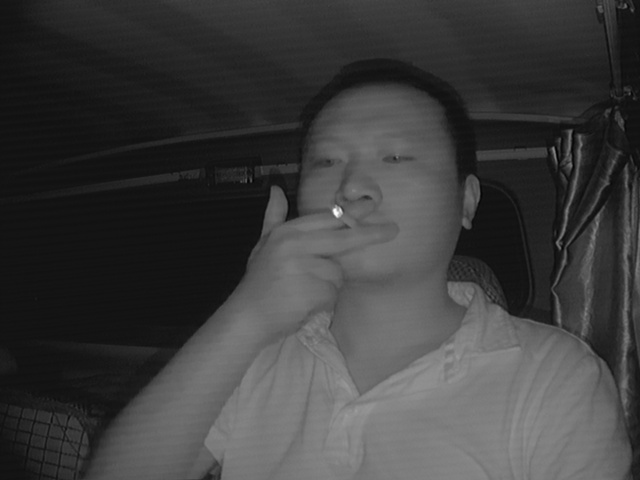hand: (248, 184, 395, 333)
